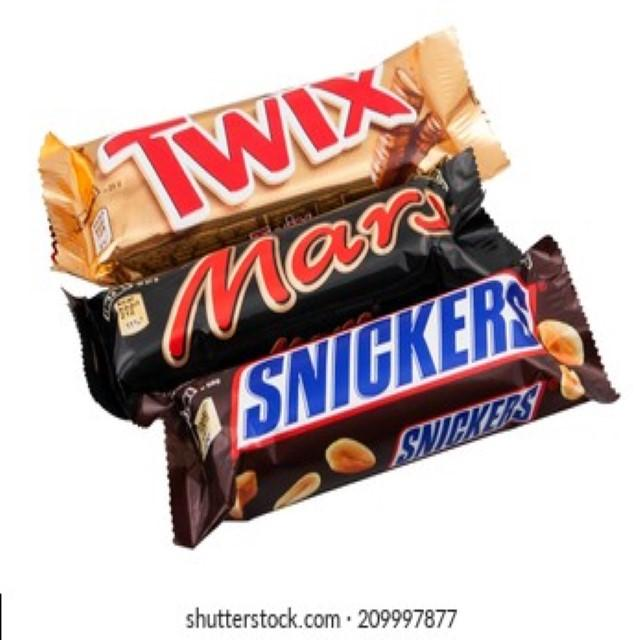mars_chocolate: (79, 153, 518, 403)
snickers_chocolate: (165, 247, 598, 548)
